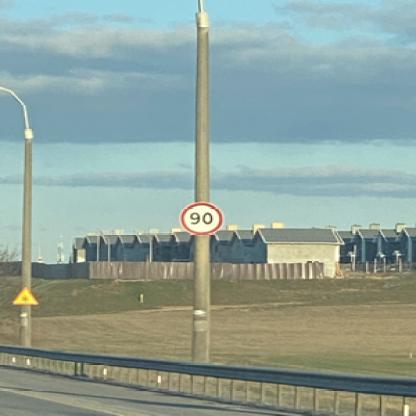speedlimit: (179, 202, 222, 234)
